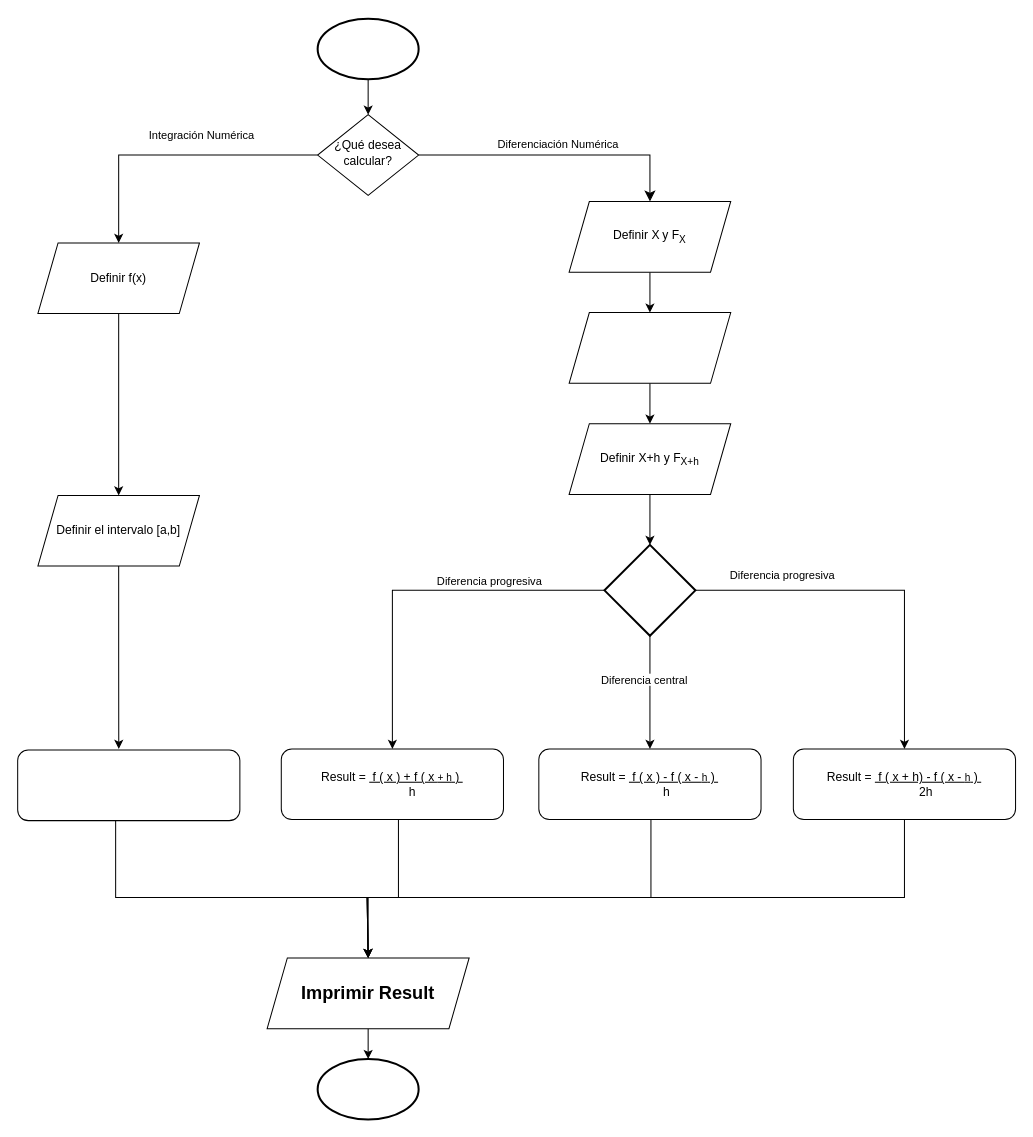
The diagram is 1033 pixels wide and 1137 high, and some of its shapes have lost their labels. The shapes that lost their labels are listed below. From the top down, each one's box as (x1, y1, x2, y2) in pixels, then its label:
(316, 17, 419, 80): Inicio
(568, 312, 731, 383): Definir X-h y F X-h
(603, 543, 696, 636): Tipo de Diferencia
(17, 749, 240, 821): Result = (b - a) f ( a ) + f ( b ) 2
(316, 1057, 419, 1120): Fin
